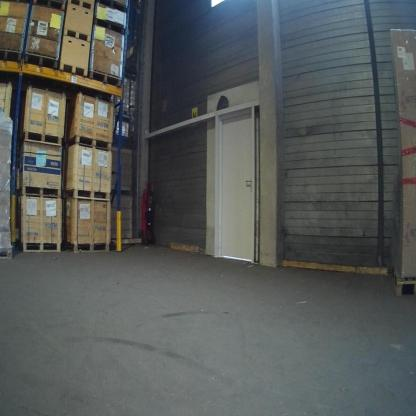pallet: (66, 134, 113, 153), (20, 129, 63, 147), (393, 266, 415, 300), (64, 188, 110, 203), (88, 69, 122, 89), (94, 15, 125, 36), (24, 52, 60, 70), (17, 185, 62, 199), (65, 240, 111, 253), (22, 240, 62, 254), (59, 59, 88, 78), (61, 28, 92, 44), (96, 0, 128, 14), (33, 0, 66, 13), (0, 47, 23, 64), (69, 0, 95, 12), (0, 248, 15, 260)
